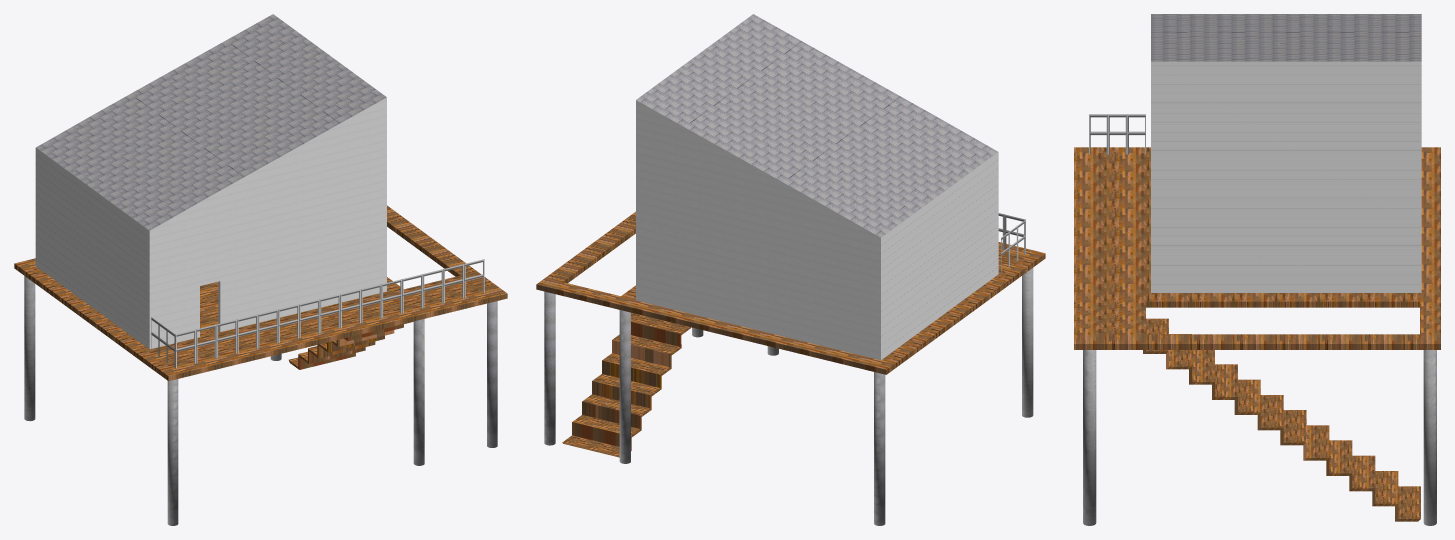
The model's file is galleryblank2.glb.
3 renders of one model, left to right at view 1: azimuth 30°, elevation 25°; view 2: azimuth 150°, elevation 25°; view 3: azimuth 270°, elevation 25°, orthographic. The views are drawn at different scales.
Visible parts, largest first — view 1: Cube, Plane, Cylinder, Plane.001; view 2: Cube, Plane, Plane.001, Cylinder; view 3: Cube, Plane, Plane.001, Cylinder.
Boxes of the visible parts, x1,y1,x2,y2 form: Cube: (35,14,386,349); Plane: (14,205,507,381); Cylinder: (24,276,497,525); Plane.001: (289,321,413,369); Cube: (636,14,998,360); Plane: (536,211,1045,374); Plane.001: (562,312,691,457); Cylinder: (544,268,1033,525); Cube: (1151,14,1421,292); Plane: (1074,114,1440,349); Plane.001: (1143,318,1420,521); Cylinder: (1083,350,1436,525).
Bounding box in the file's own units: 14.55 × 14.42 × 11.46.
6 materials, 6 textured.
